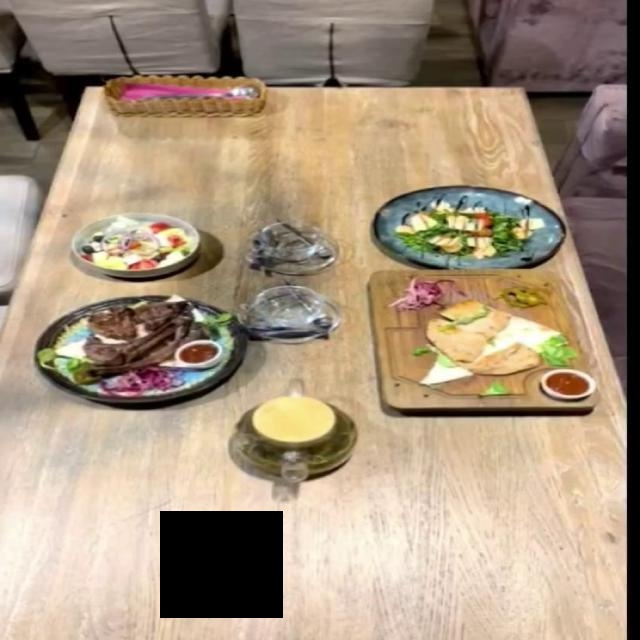meat: (370, 272, 599, 408), (34, 293, 250, 402)
salad: (375, 185, 568, 267), (68, 211, 202, 276)
tea: (230, 390, 359, 480)
